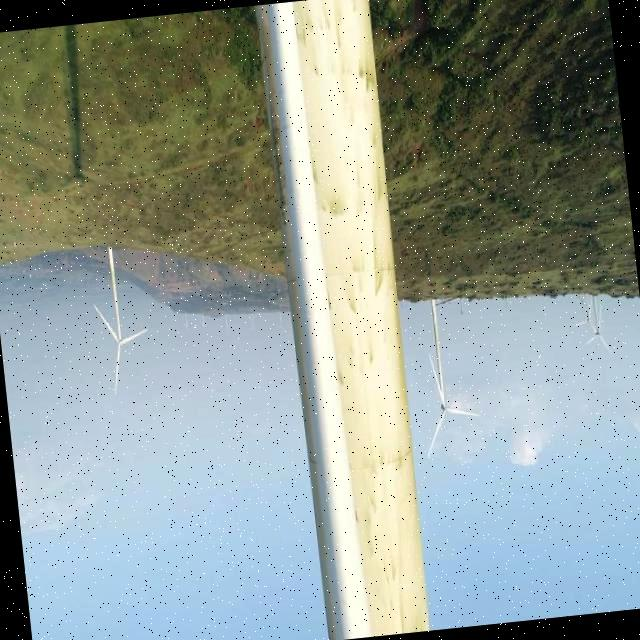Dirt: (285, 1, 433, 638)
